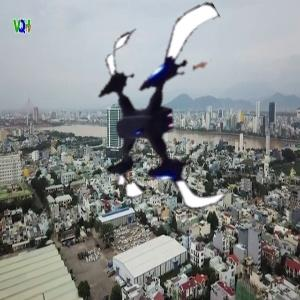drone: (65, 22, 267, 224)
